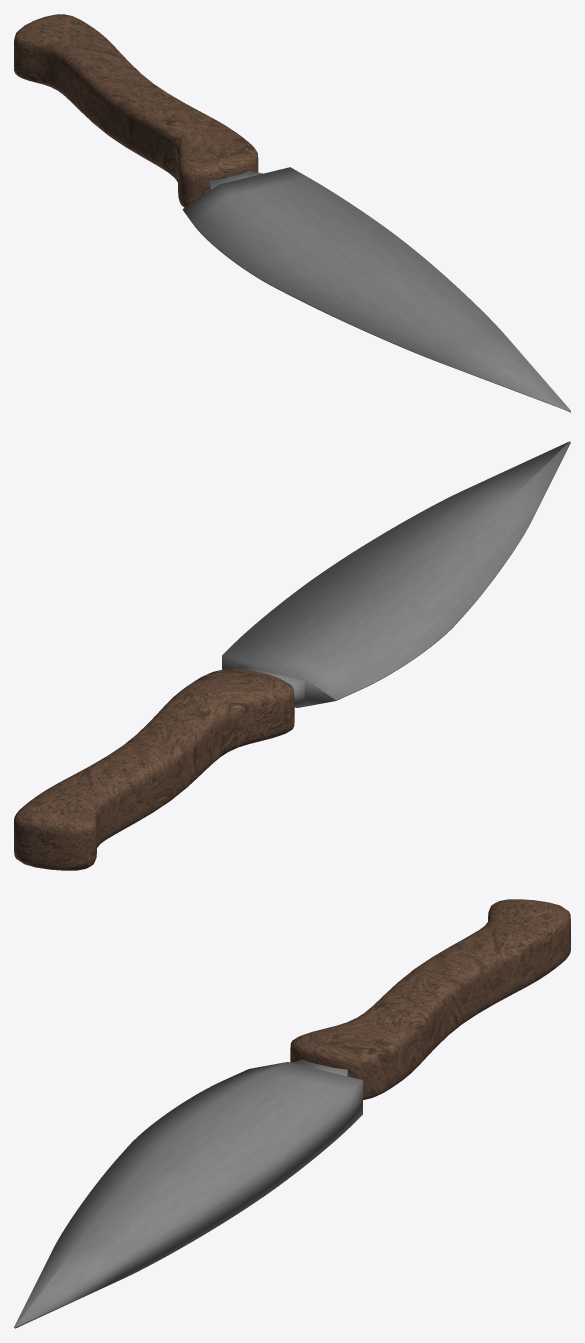
File: knife 1.fbx
3 renders of one model, top to bottom at view 1: azimuth 30°, elevation 25°; view 2: azimuth 150°, elevation 25°; view 3: azimuth 330°, elevation 25°, orthographic. The views are drawn at different scales.
Visible parts, largest first — view 1: Cube.098; view 2: Cube.098; view 3: Cube.098.
Part boxes in pixels (box(x1,y1,x2,y2)): Cube.098: box(14, 14, 570, 412); Cube.098: box(14, 441, 570, 870); Cube.098: box(14, 899, 570, 1328).
Bounding box in the file's own units: 46.77 × 16.64 × 317.
